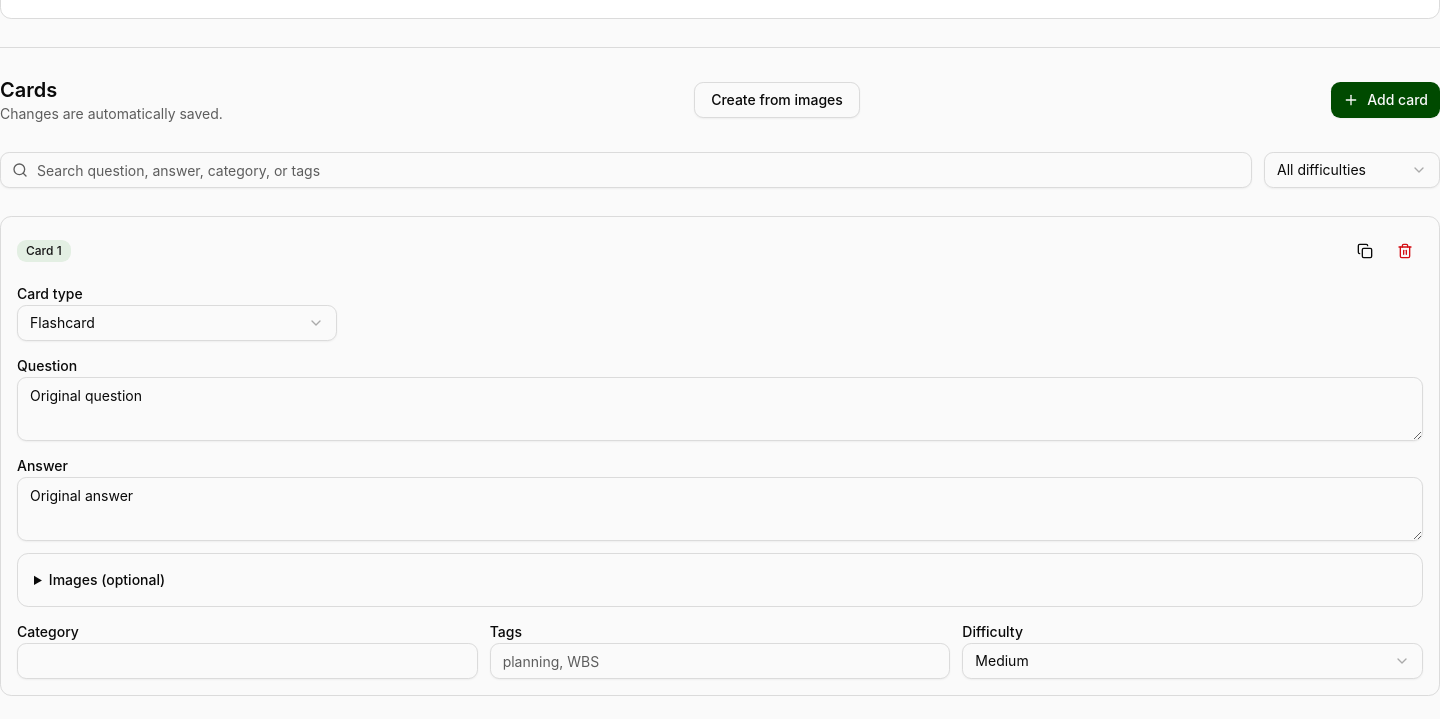
Test: DeckEditor › duplicates and deletes cards
This screenshot has width=1440, height=719.
What coordinates should you click on to do the following:
click the button named "Duplicate card 1"
I would click on:
 (1365, 251)
Its box is [1347,233,1383,269].
(page scrolled)
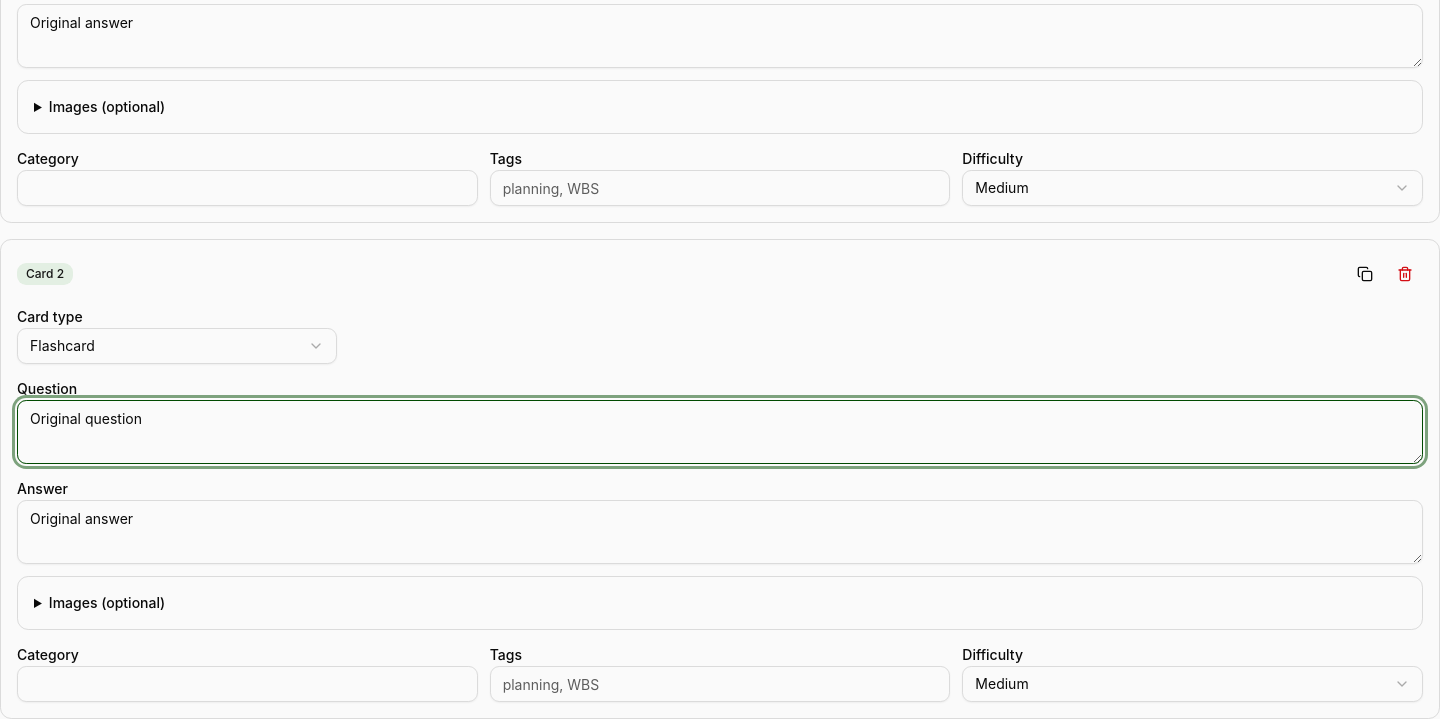
What coordinates should you click on to do the following:
click the button named "Delete card 2"
I would click on:
 (1405, 274)
Its box is [1387,256,1423,292].
(page scrolled)
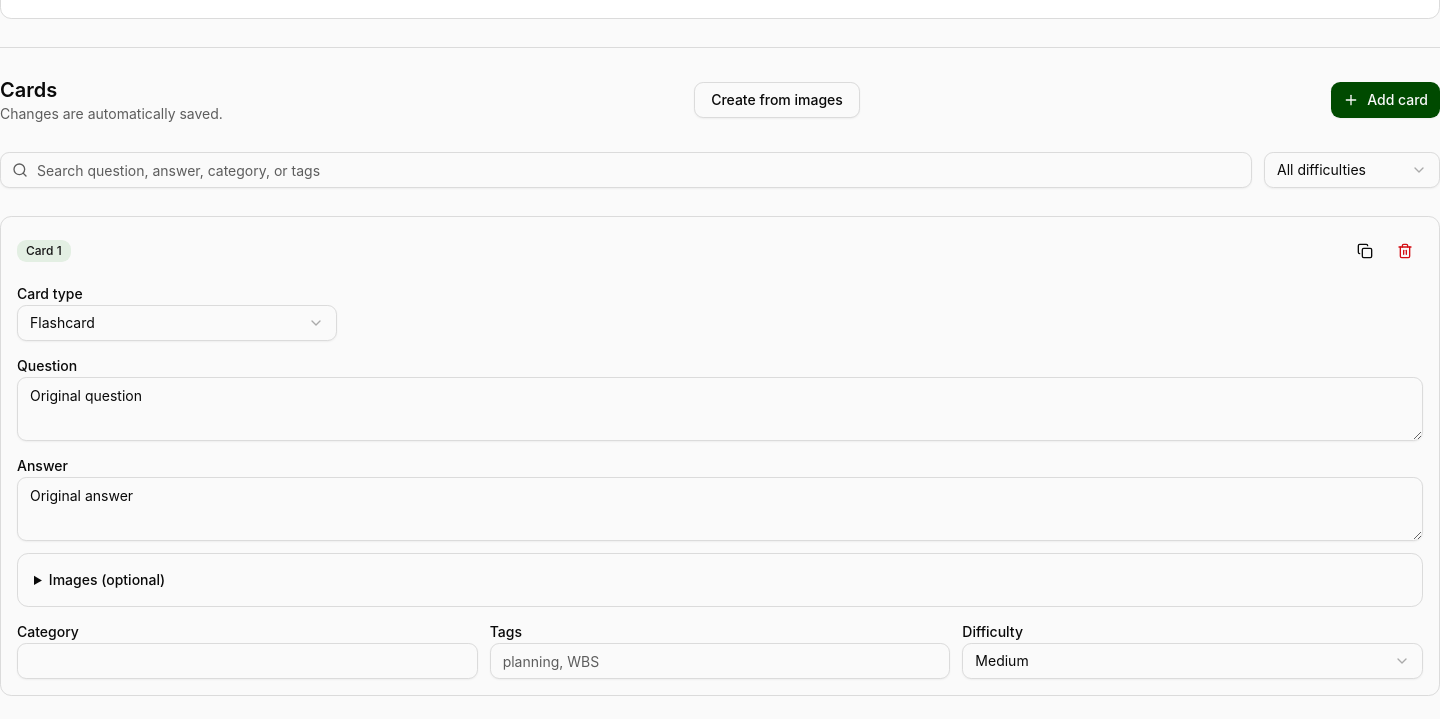
expect the text "Card 1" is shown once: met, box [17,240,71,262]
